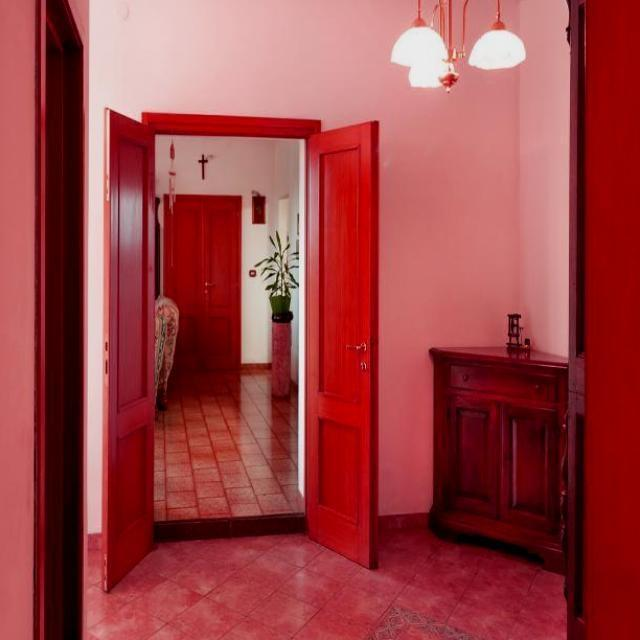door: (303, 119, 378, 569), (101, 100, 155, 596)
